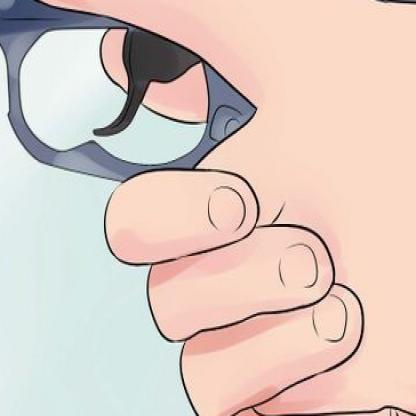gun: (0, 0, 416, 188)
